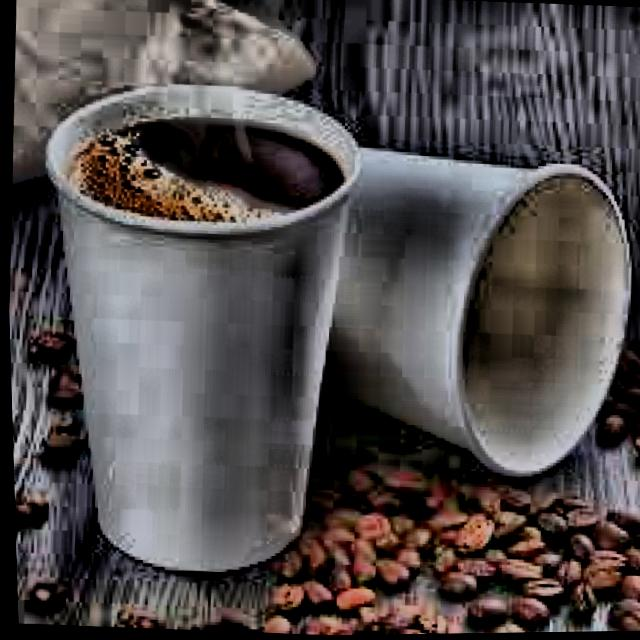Cup: (43, 69, 371, 591), (245, 82, 640, 502)
